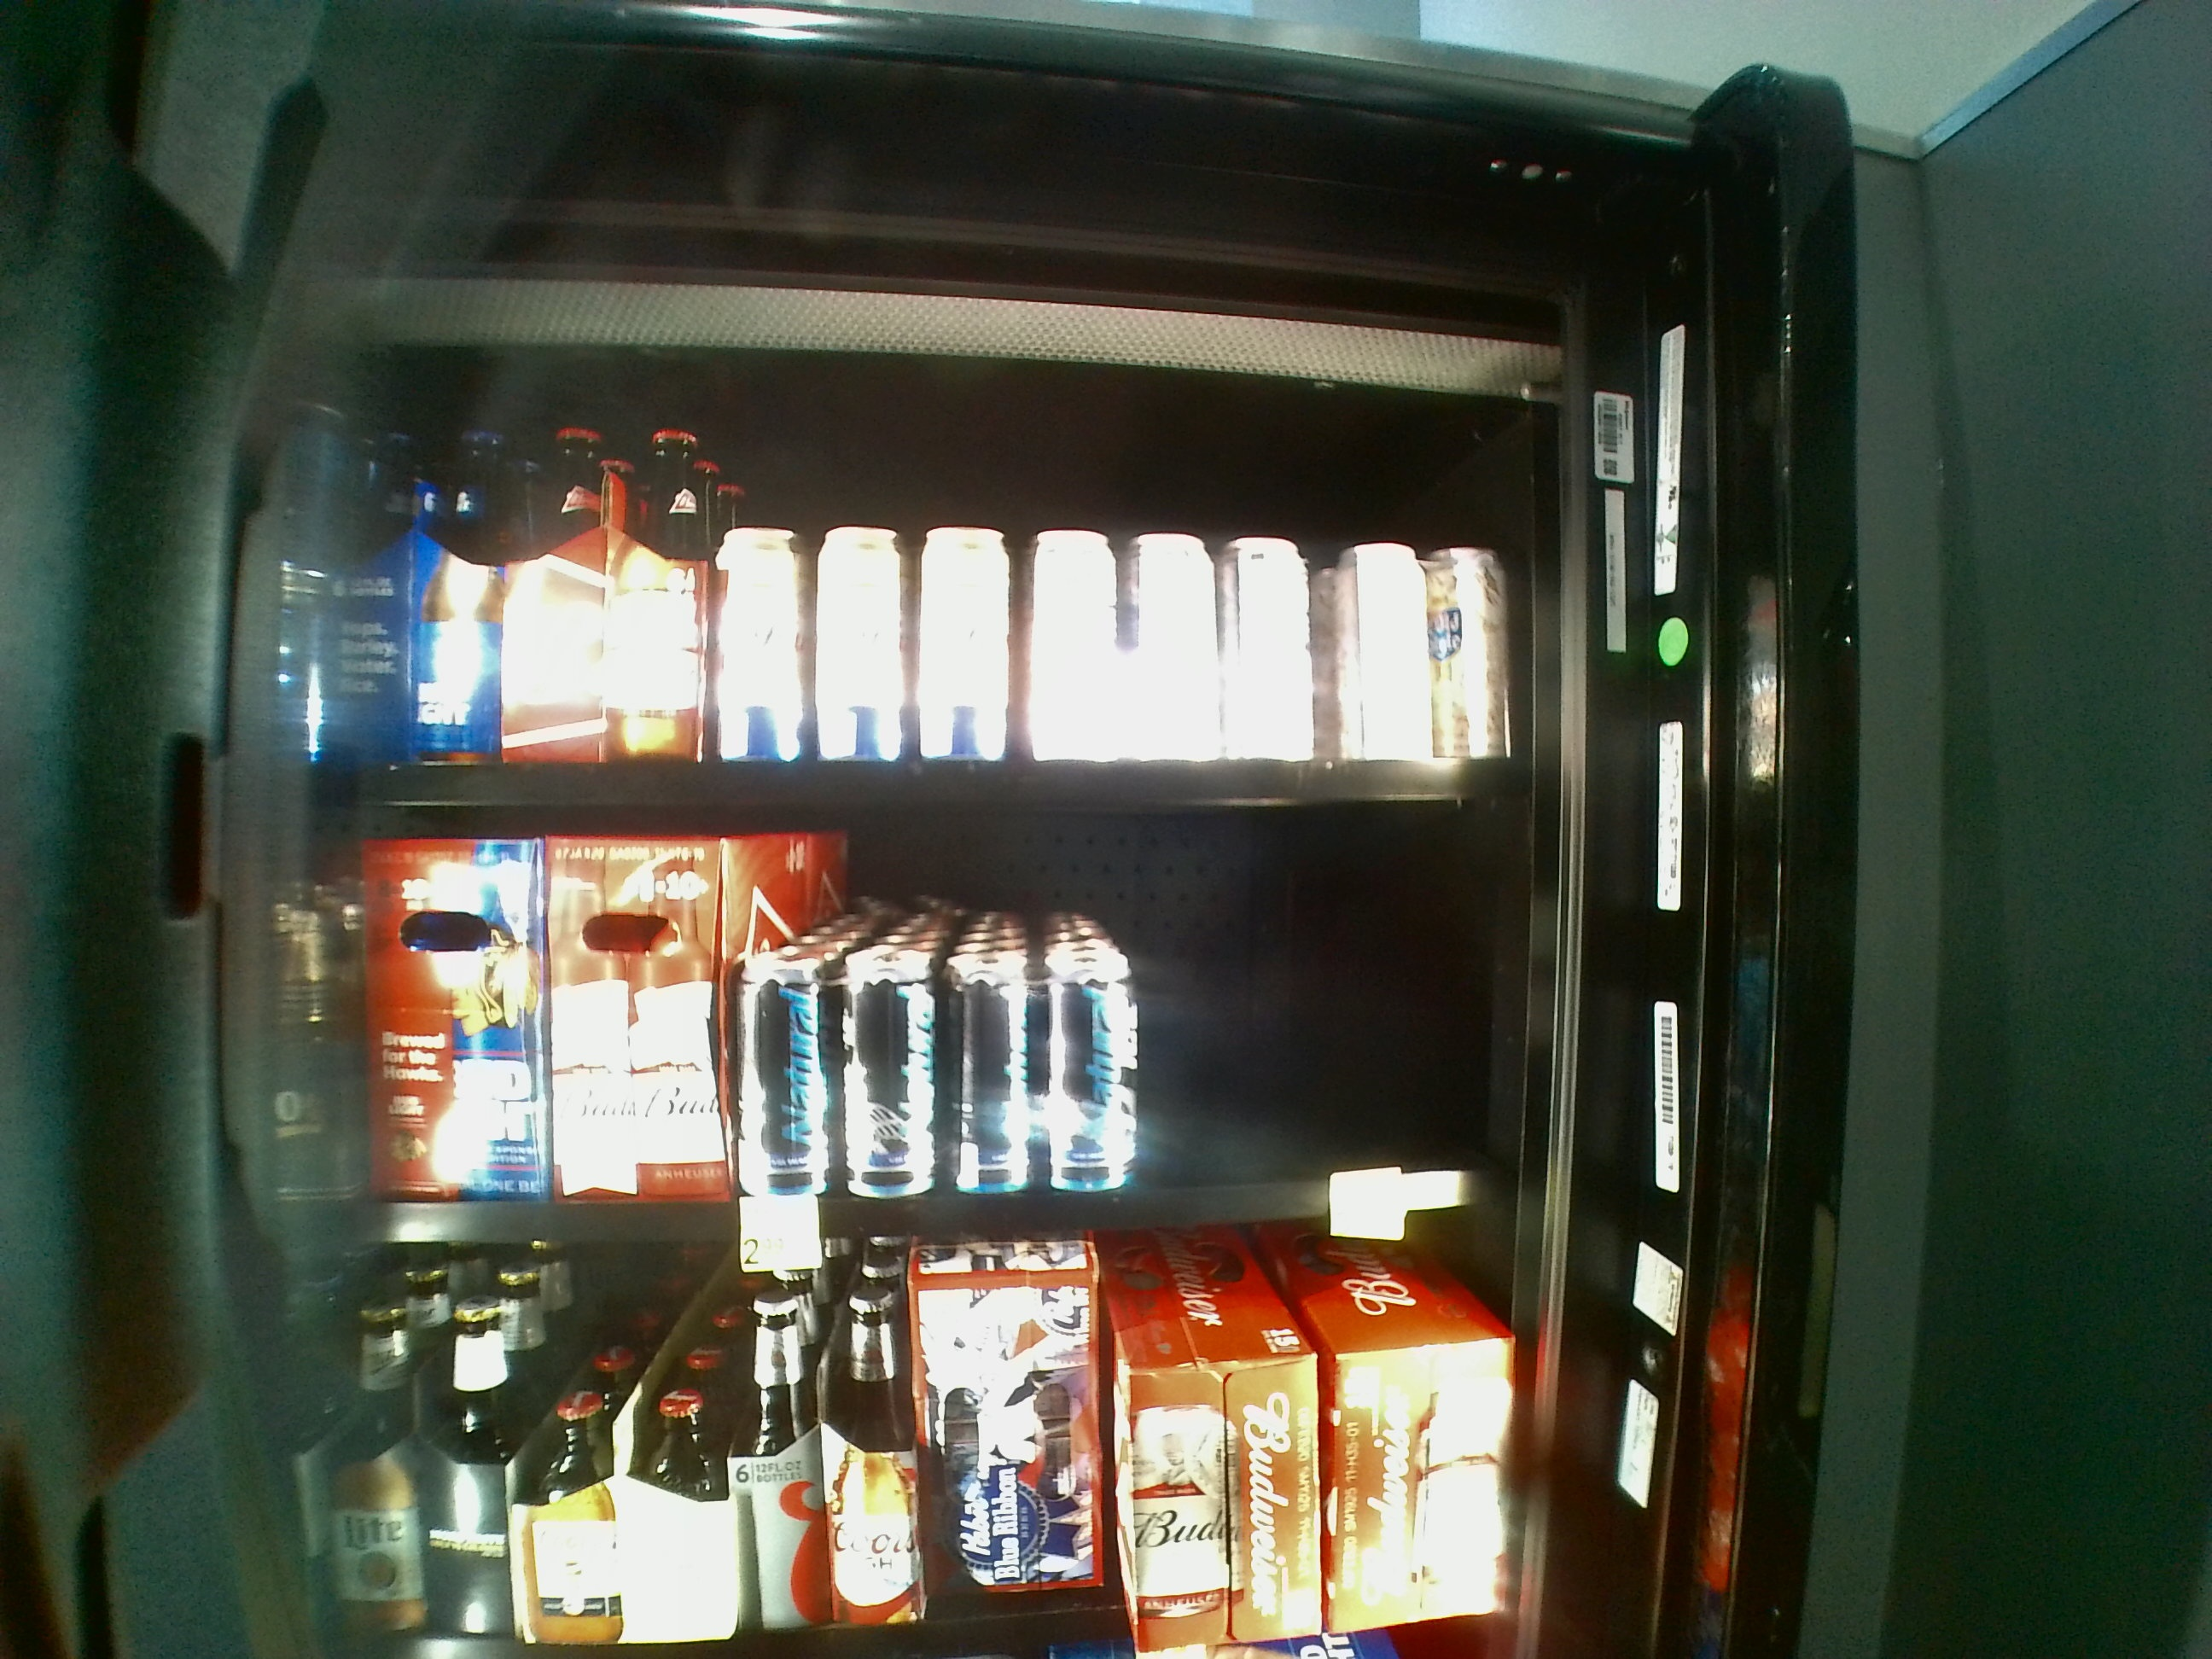shelf: (331, 347, 1527, 812), (352, 810, 1512, 1234), (378, 1241, 1494, 1659)
